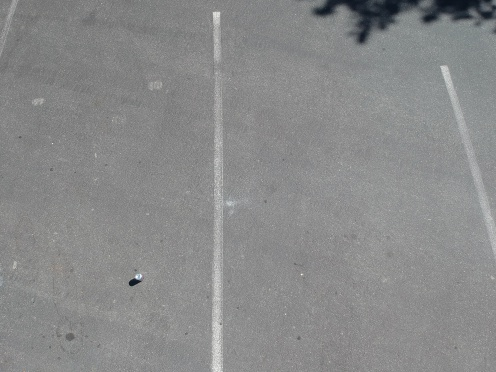can: (127, 269, 147, 284)
